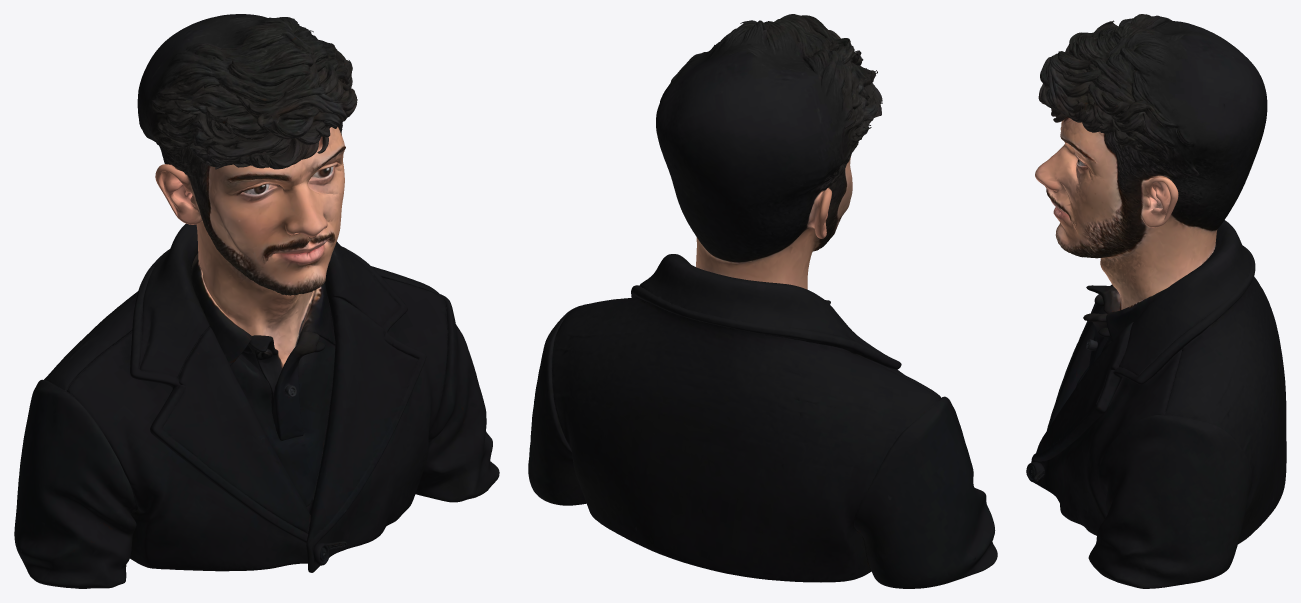
Rendered from piyush-bust.glb.
3 views of the same model, side by side, from view 1: azimuth 30°, elevation 25°; view 2: azimuth 150°, elevation 25°; view 3: azimuth 270°, elevation 25° (orthographic). The views are drawn at different scales.
Parts seen in each view (by area): view 1: model; view 2: model; view 3: model.
Boxes of the visible parts, <box> form: model: <box>14,14,499,588</box>; model: <box>528,14,997,588</box>; model: <box>1026,14,1286,588</box>.
Size of the model in its own units: 1.81 by 1.9 by 0.9734.
1 material, 1 textured.
